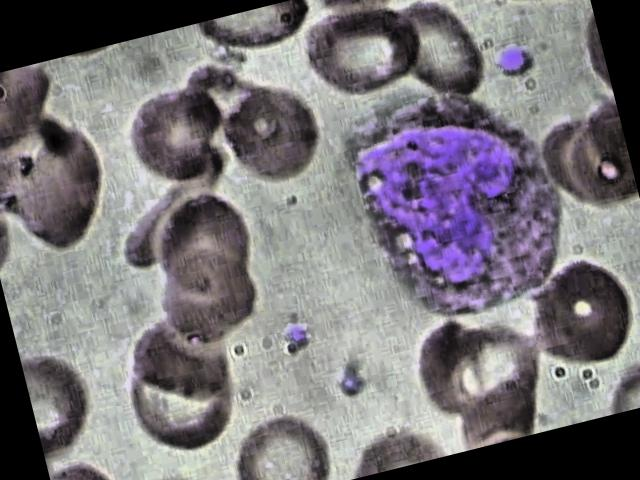Platelets: (486, 35, 536, 85), (332, 360, 376, 406), (276, 317, 320, 356)
RBC: (0, 115, 130, 267), (515, 239, 640, 382), (114, 336, 250, 464), (294, 0, 436, 109), (115, 73, 242, 192), (144, 231, 271, 350), (137, 184, 264, 302), (388, 306, 506, 432), (212, 68, 329, 192), (383, 0, 500, 109), (215, 387, 342, 480)
WBC: (325, 68, 602, 348)
